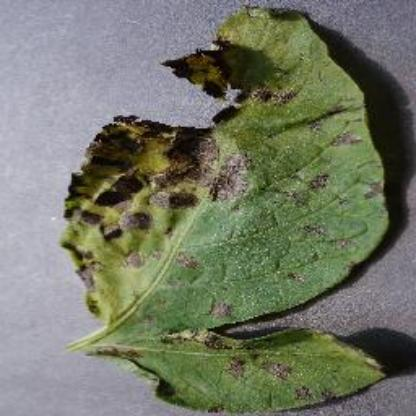Early-Blight: (58, 7, 388, 335), (93, 313, 397, 411)
